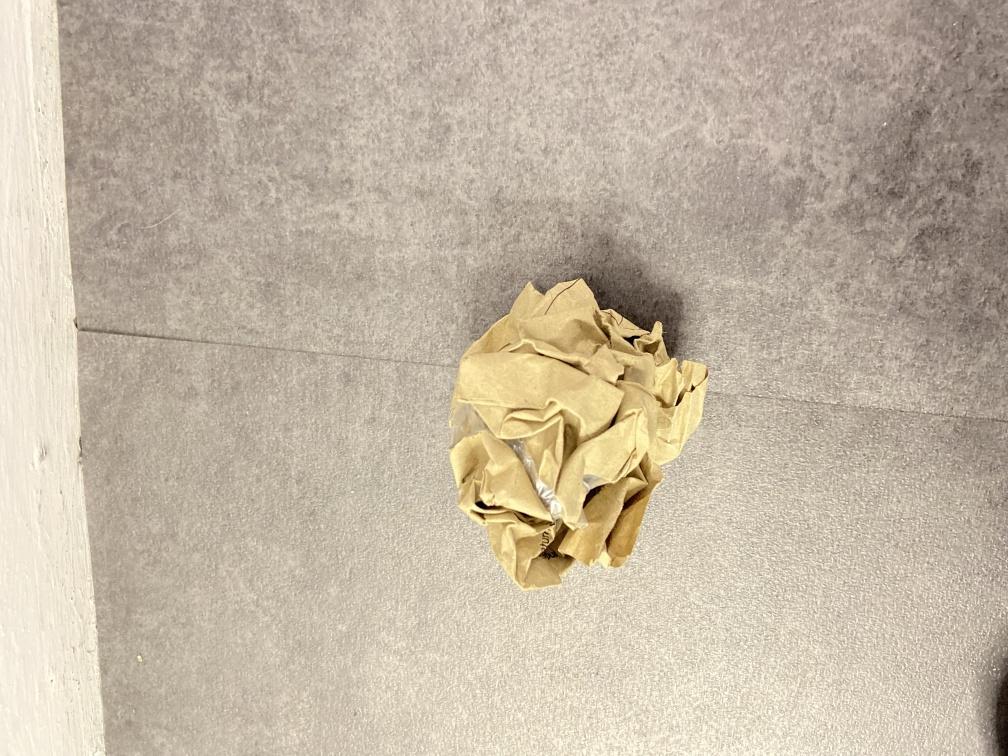paper_brown: (441, 275, 711, 594)
